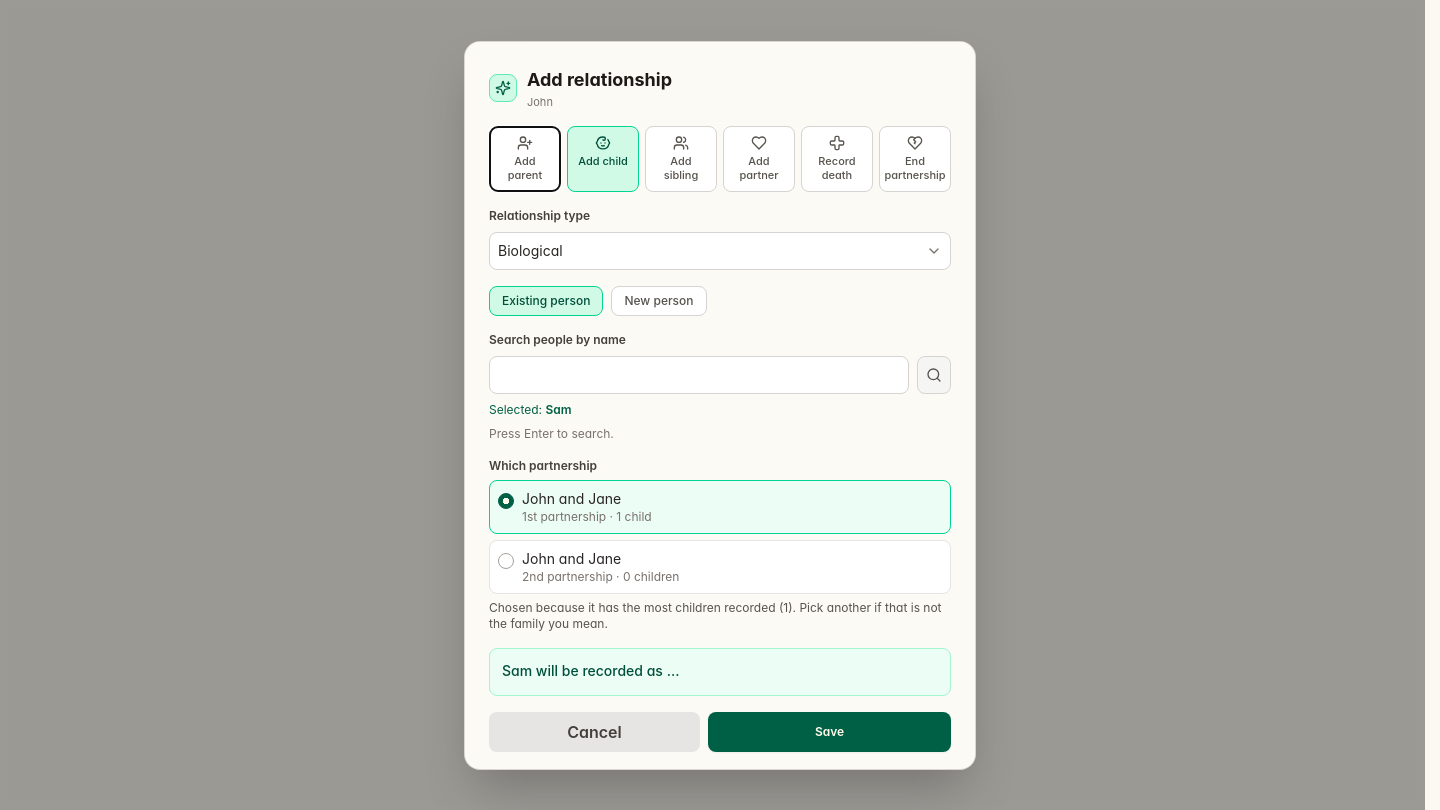
Test: RelationshipModal partnership chooser › sends the picked partnership with the next preview and stops showing the default reason
Click the radio button named "rel-union" at (506, 560), box 498,552 -> 514,568
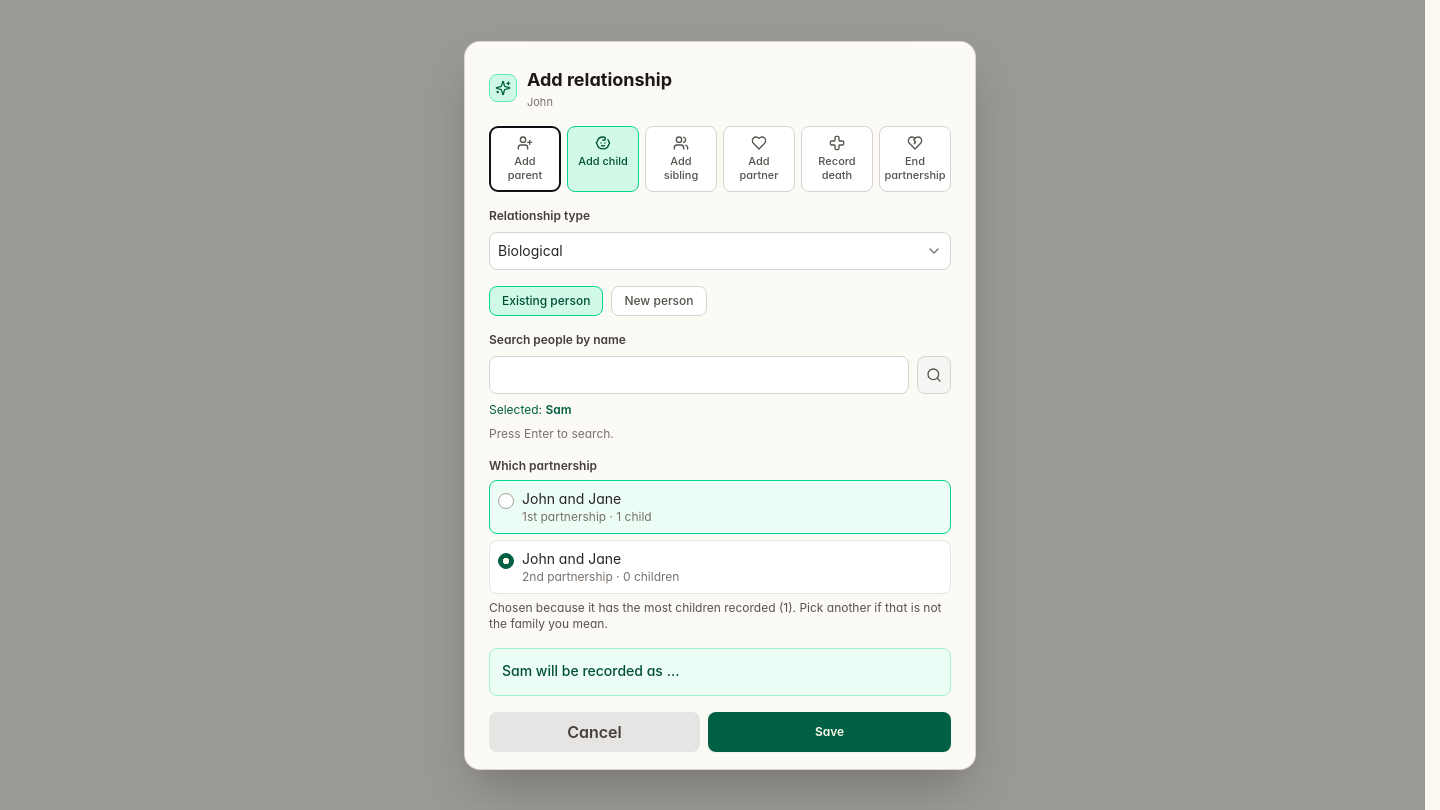
Click the radio button named "rel-union" at (506, 560), box 498,552 -> 514,568
Wait 300 ms
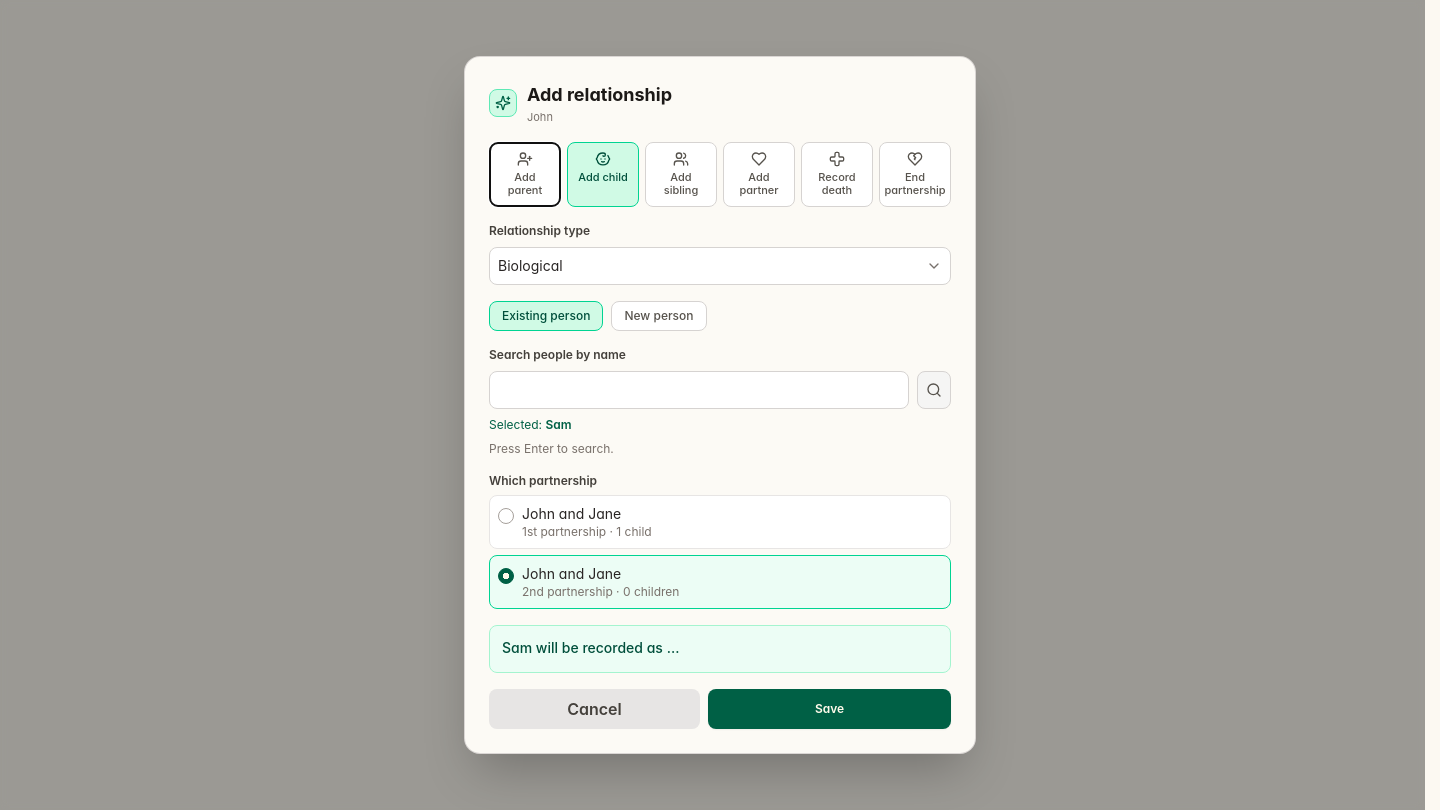
Check: the text with test id "union-reason" is gone
